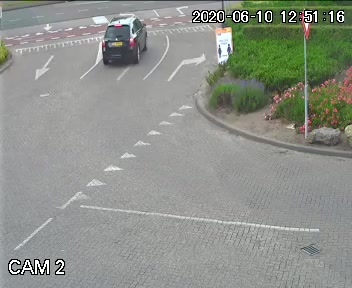car: (100, 9, 147, 76)
